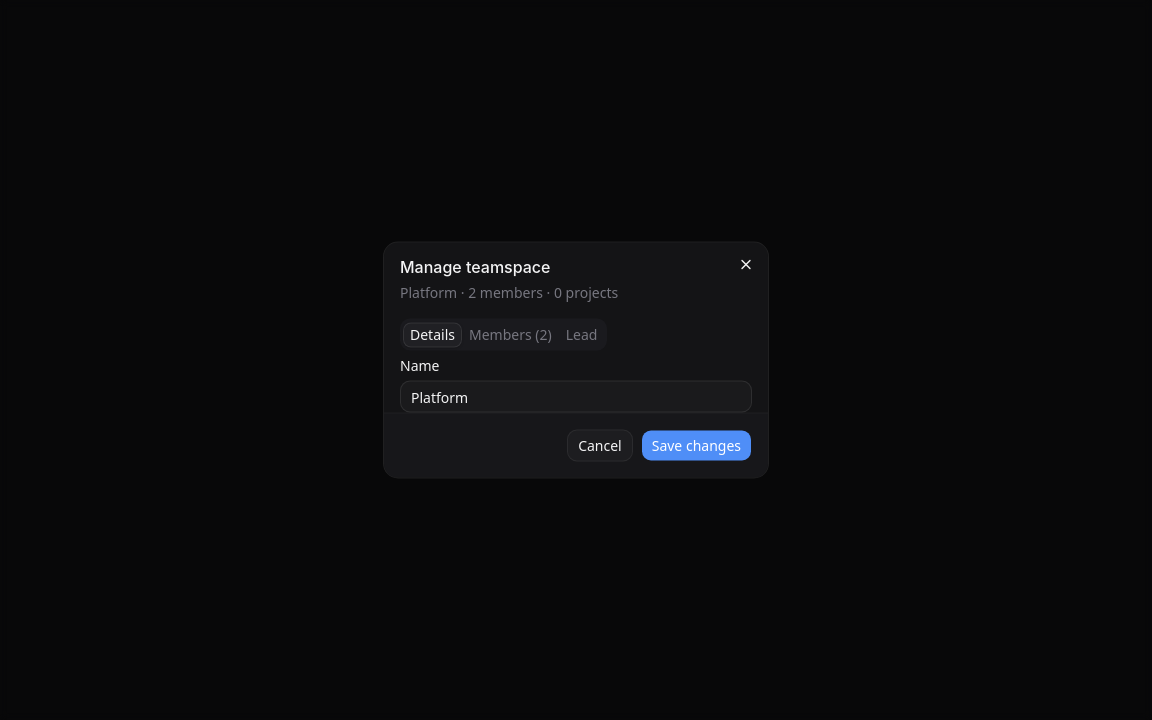
Test: Members tab (C90T1) › add member updates the roster
Click the tab "Members (2)".
click(510, 334)  # box [462, 322, 559, 347]
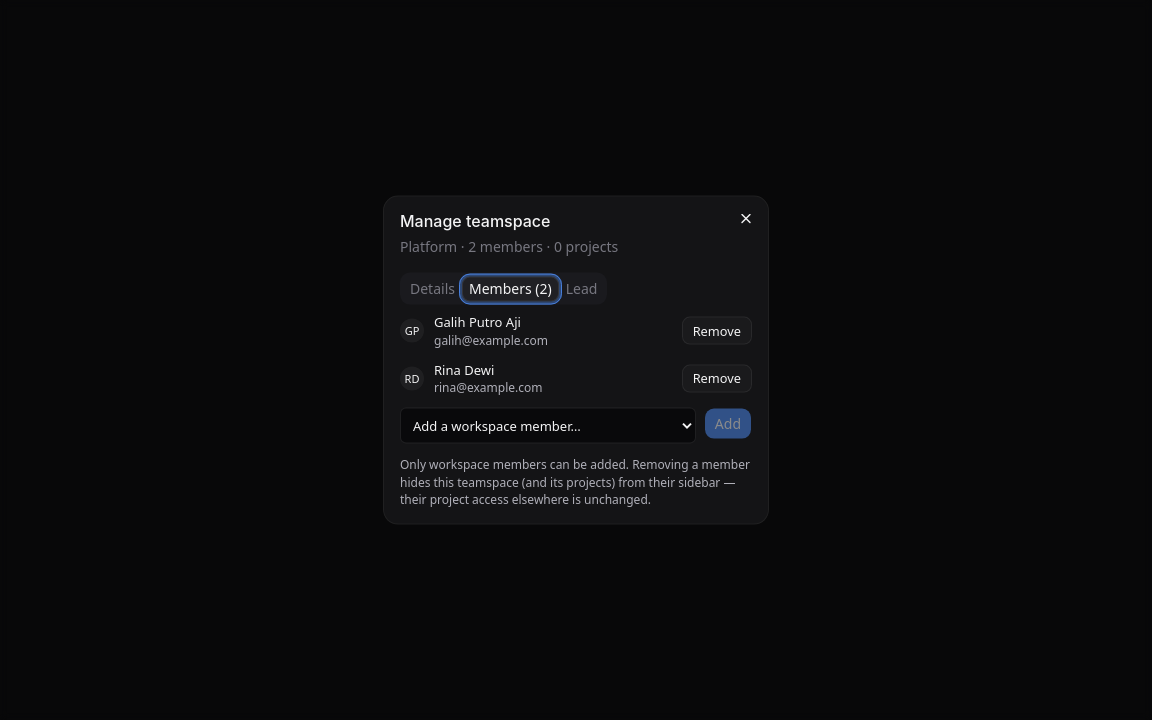
expect the text "Galih Putro Aji" is shown: met, box [434, 313, 521, 331]
Select "Budi Santoso (budi@example.com)" in the dropdown named "Add a workspace member" at point(548, 426), box [400, 408, 696, 444]
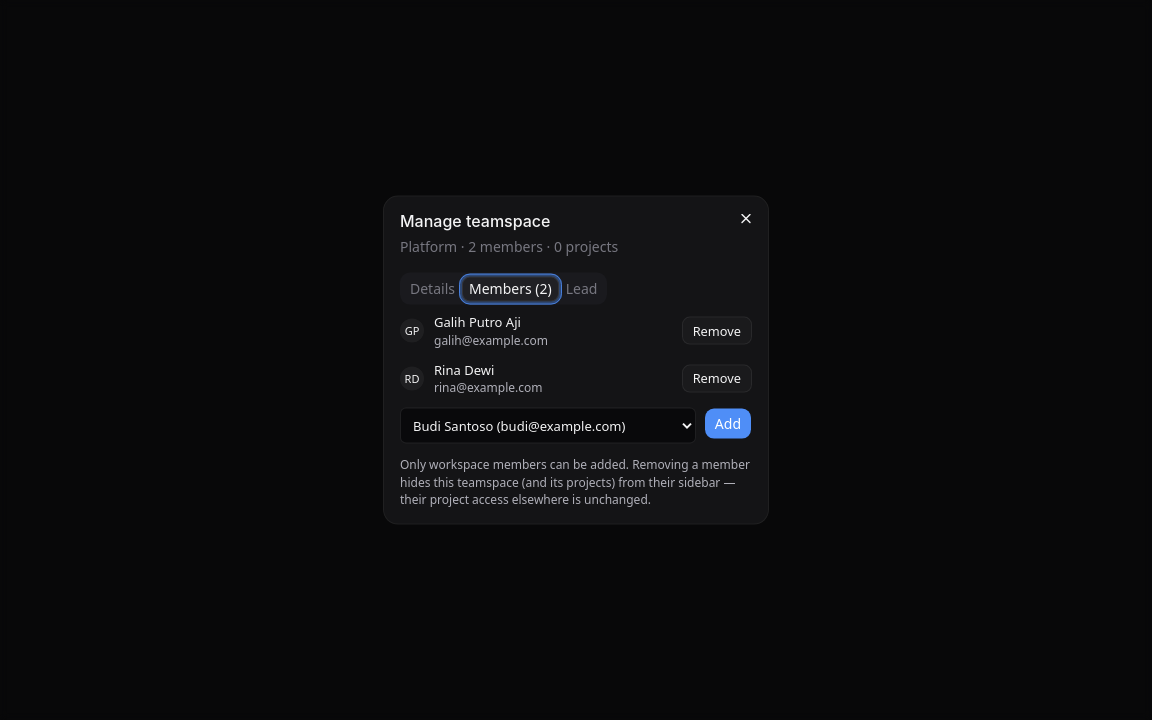
Click the button "Add".
click(728, 424)  # box [704, 408, 752, 440]
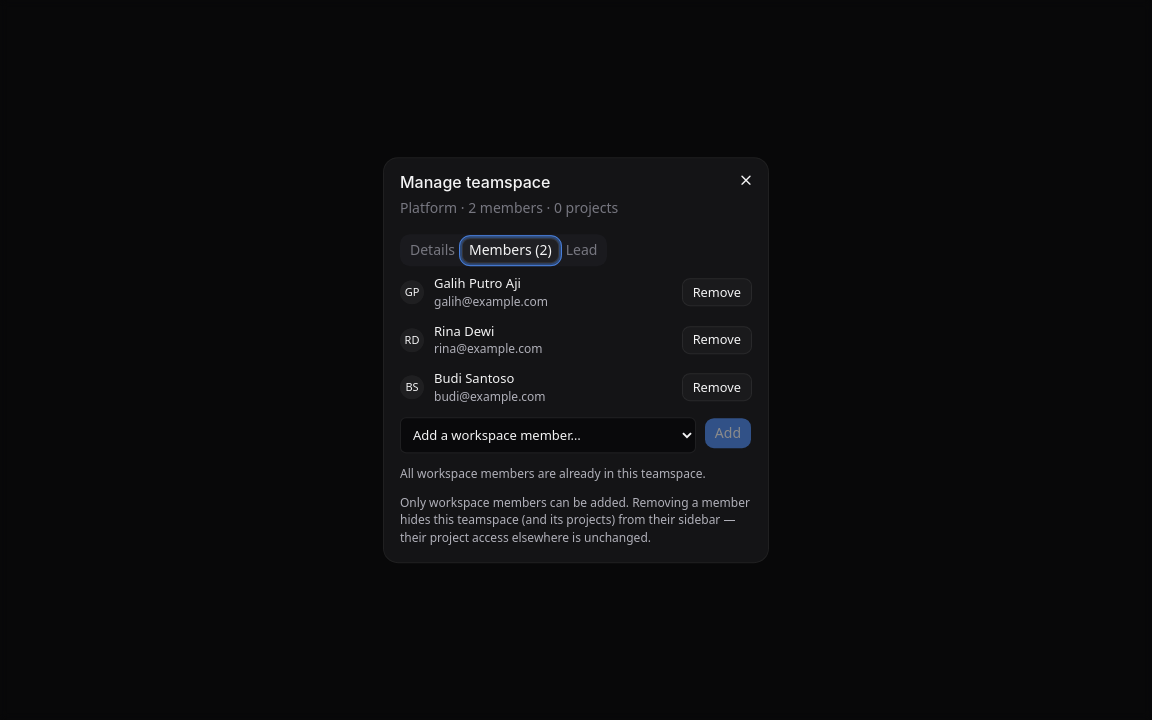
expect the text "Budi Santoso" is shown: met, box [434, 370, 514, 388]
